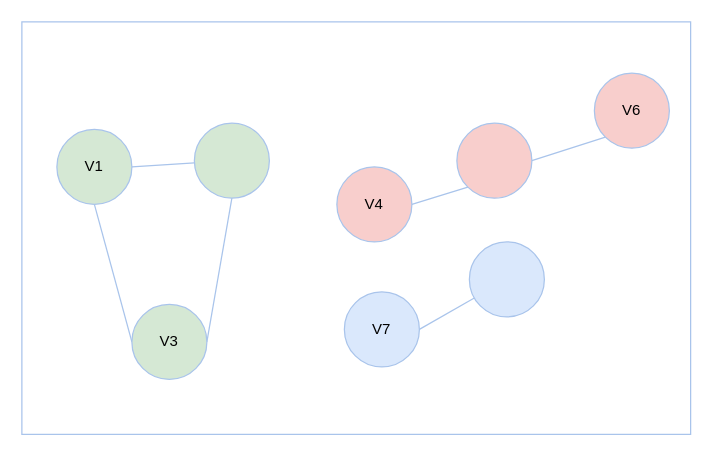
This 713x456 diagram has some shape labels left out. The shapes that lost their labels are listed below. From the top down, each one's centre as x and y in pixels, then its label:
the point at 231,160: V2
the point at 494,160: V5
the point at 506,279: V8
